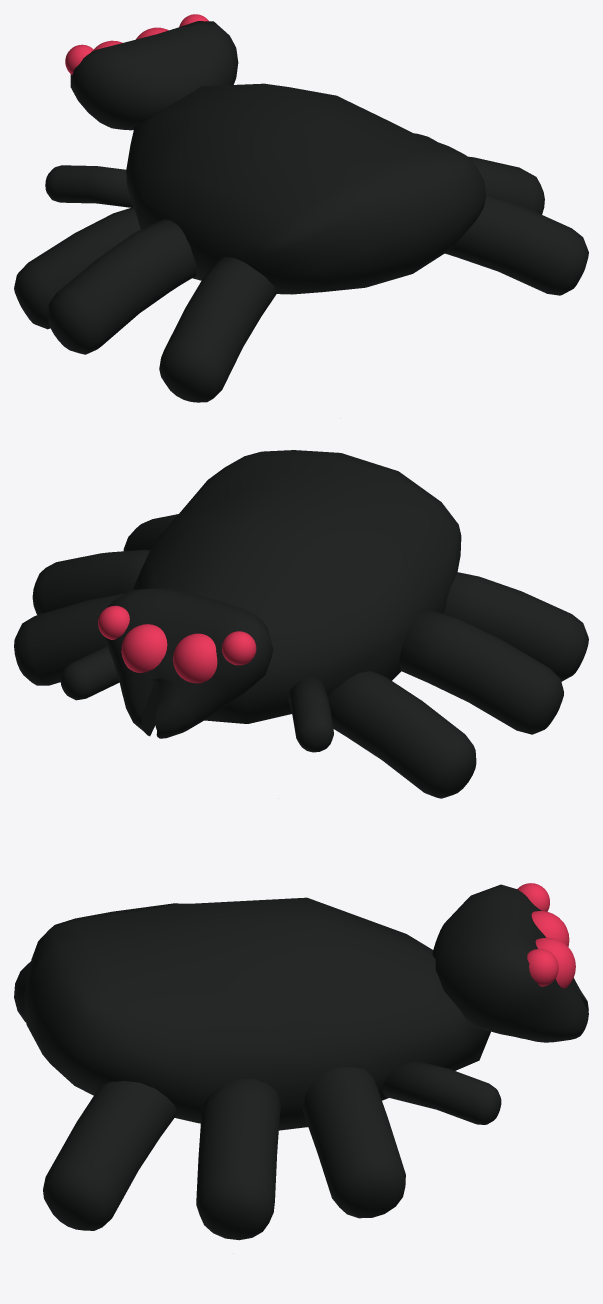
File: mob-spider.glb
The picture shows the model from 3 angles, top to bottom: view 1: azimuth 30°, elevation 25°; view 2: azimuth 150°, elevation 25°; view 3: azimuth 270°, elevation 25°; orthographic projection. The views are drawn at different scales.
Visible parts, largest first — view 1: Cube, Sphere, Cylinder.006, Cylinder.007, Cylinder.003, Cylinder.005, Cylinder.004, Cylinder.002; view 2: Cube, Sphere, Cylinder.006, Cylinder.005, Cylinder.007, Cylinder, Cylinder.002, Cylinder.004, Cylinder.001, Sphere.004, Sphere.003, Cylinder.003 (+2 smaller); view 3: Cube, Sphere, Cylinder.003, Cylinder.002, Cylinder, Cylinder.001, Sphere.003, Sphere.001, Sphere.004, Sphere.002, Cylinder.007.
Boxes of the visible parts, x1,y1,x2,y2 form: Cube: (126,83,485,294); Sphere: (70,21,238,130); Cylinder.006: (48,219,197,354); Cylinder.007: (159,257,277,402); Cylinder.003: (445,193,588,295); Cylinder.005: (14,207,140,329); Cylinder.004: (45,165,132,207); Cylinder.002: (468,156,544,214); Cube: (132,450,461,723); Sphere: (103,588,273,738); Cylinder.006: (399,608,563,734); Cylinder.005: (327,671,476,798); Cylinder.007: (443,572,588,681); Cylinder: (14,593,125,685); Cylinder.002: (32,549,150,614); Cylinder.004: (288,676,333,752); Cylinder.001: (60,646,119,700); Sphere.004: (173,633,217,683); Sphere.003: (121,624,167,672); Cylinder.003: (123,514,178,551); Cube: (24,897,490,1130); Sphere: (432,884,588,1042); Cylinder.003: (43,1080,176,1230); Cylinder.002: (196,1079,281,1240); Cylinder: (302,1067,405,1218); Cylinder.001: (382,1061,501,1124); Sphere.003: (535,937,575,988); Sphere.001: (527,949,558,986); Sphere.004: (531,911,569,946); Sphere.002: (517,883,549,911); Cylinder.007: (14,961,30,1022).
Bounding box in the file's own units: 3.37 × 2.11 × 2.98.
